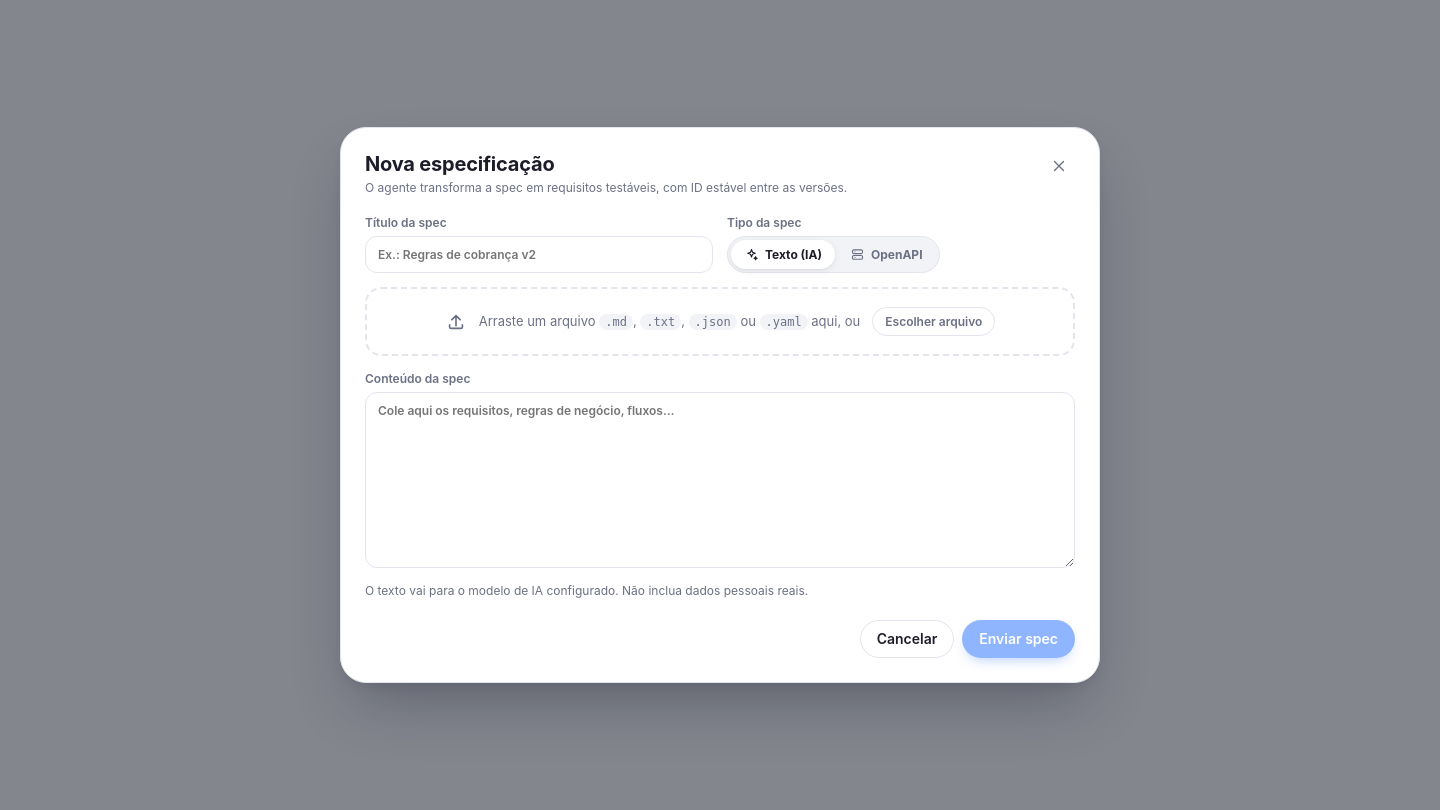
Test: SpecDialog › only lets you send once there is a title and some content
This screenshot has width=1440, height=810.
Expected: the button "Enviar spec" is disabled, top-left (962, 620), bottom-right (1075, 658)
Type "API" into the field labelled "Título da spec".
click(539, 254); type("API")  # box top-left (365, 236), bottom-right (713, 273)
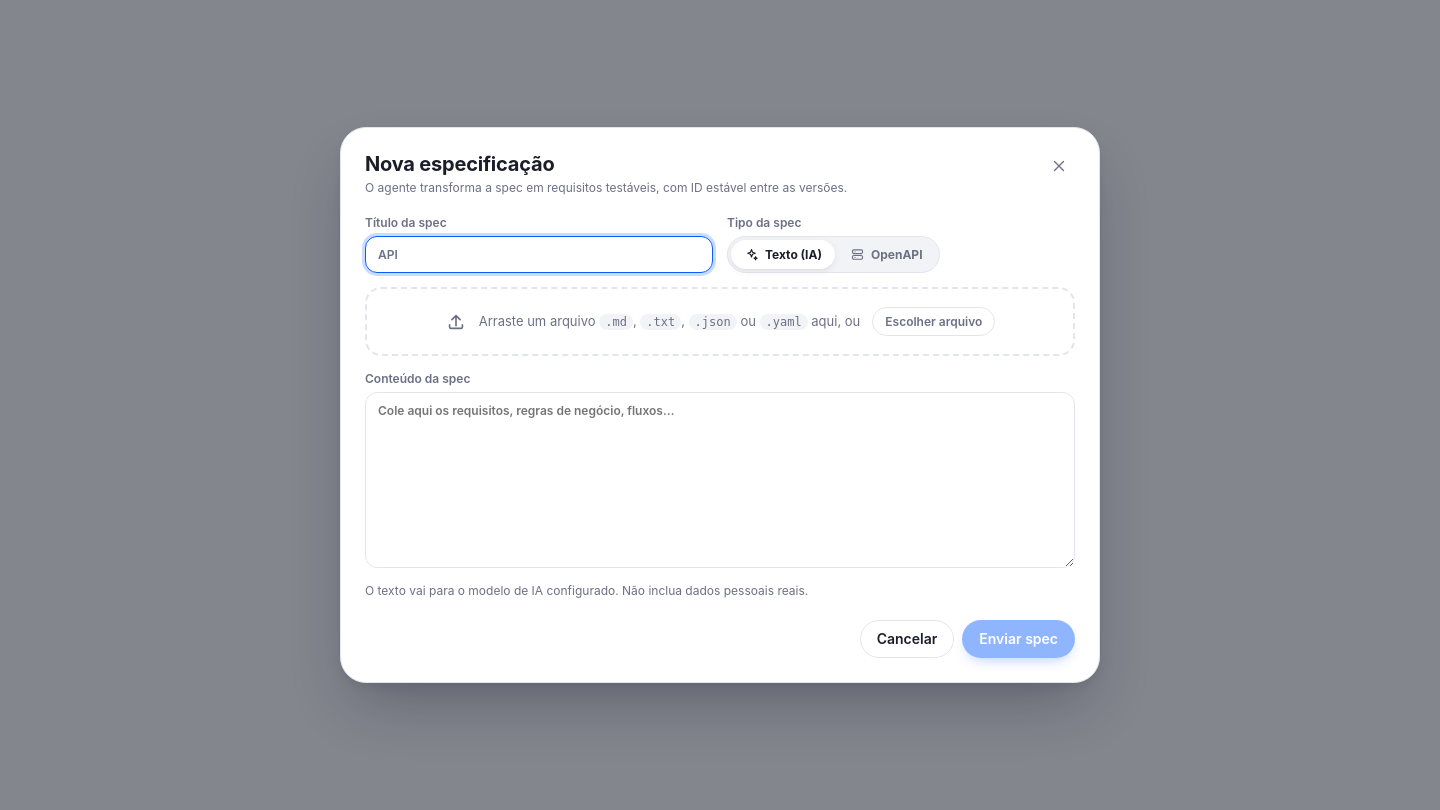
Expected: the button "Enviar spec" is disabled, top-left (962, 620), bottom-right (1075, 658)
Click the text box labelled "Conteúdo da spec".
click(720, 480)  # box top-left (365, 392), bottom-right (1075, 568)
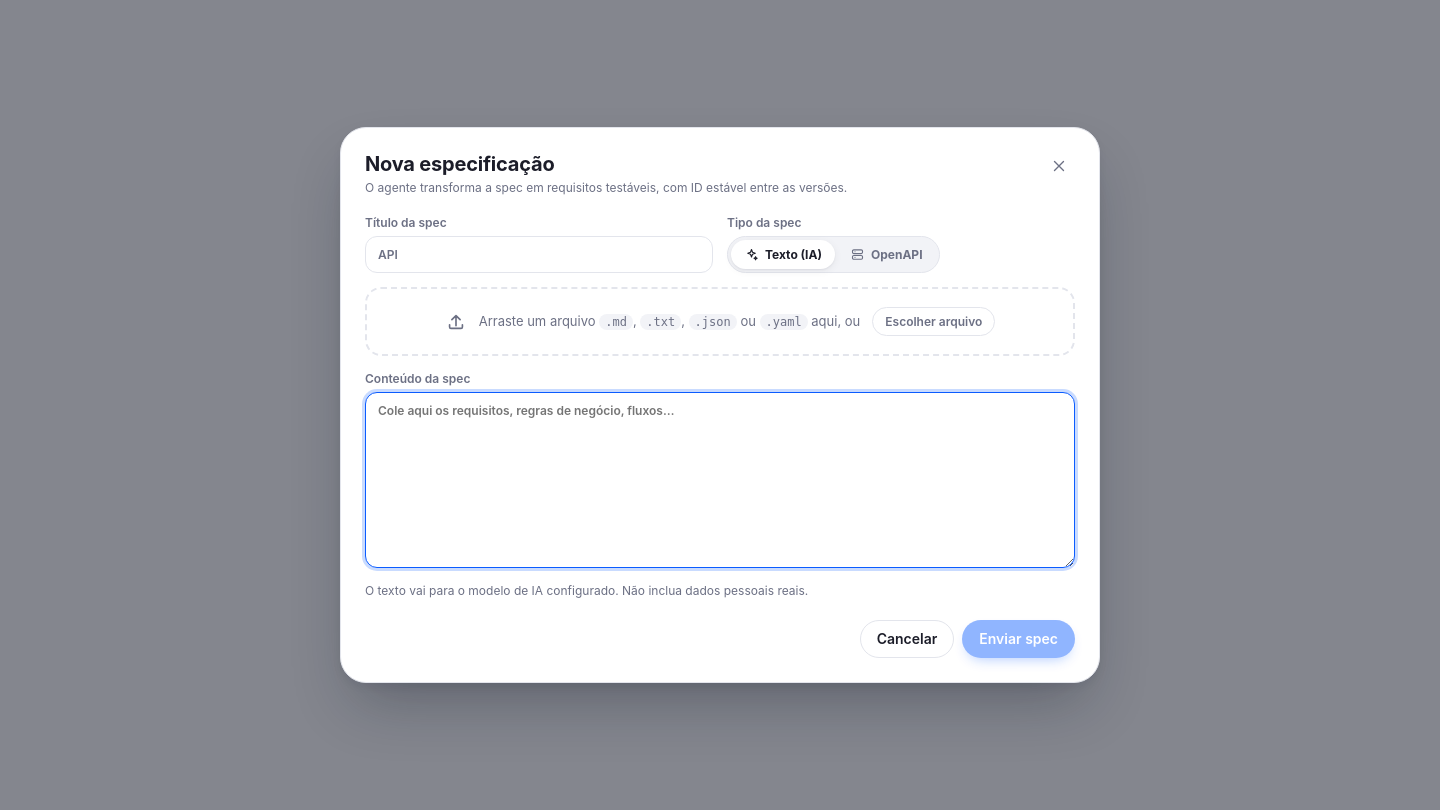
Type keys "openapi: 3.0.0"
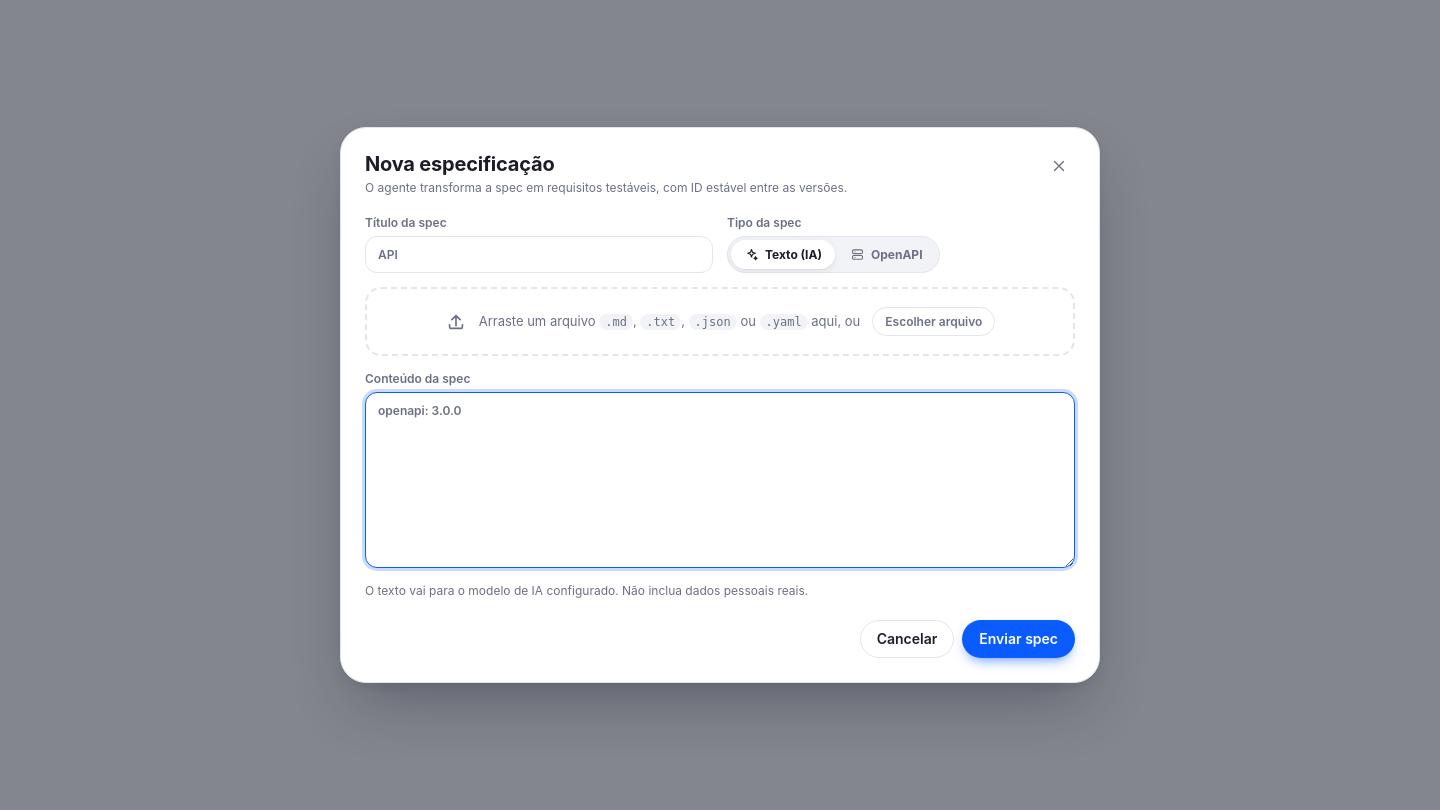
Result: the button "Enviar spec" is enabled at top-left (962, 620), bottom-right (1075, 658)
